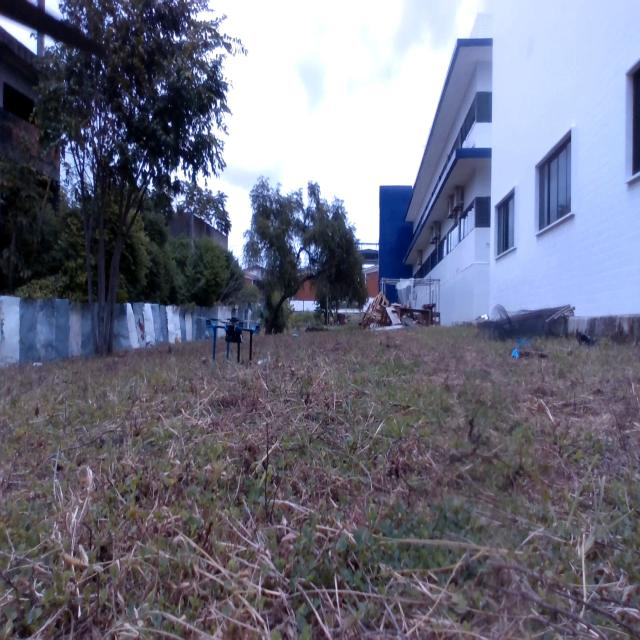-uav-: (193, 299, 268, 372)
